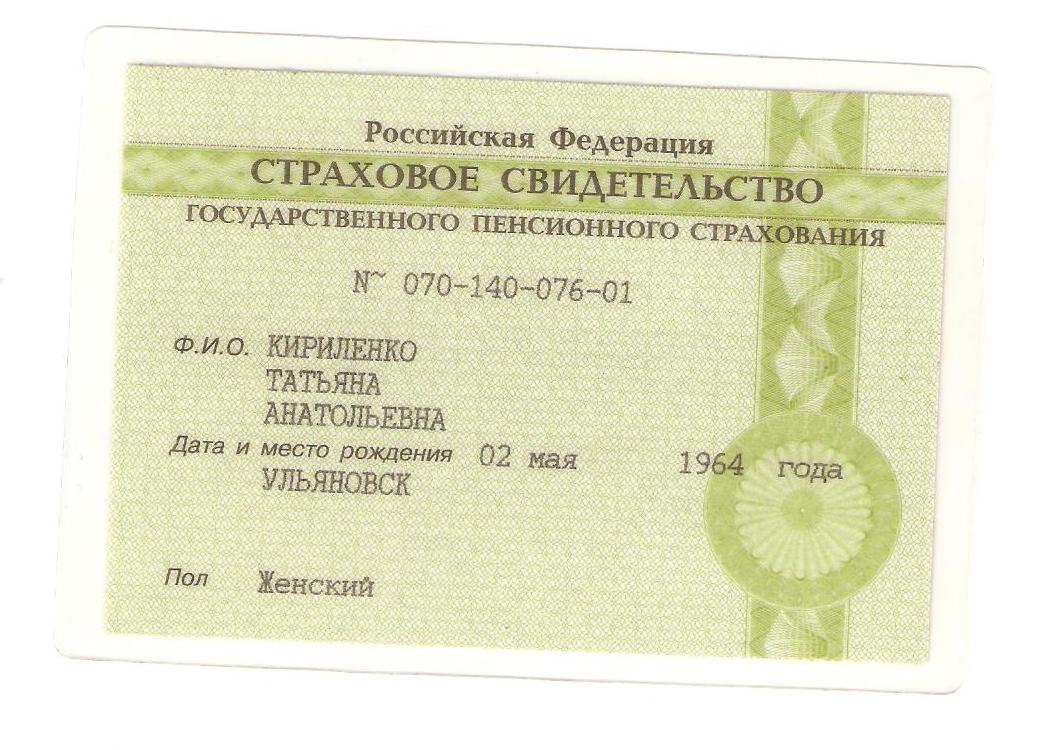text: (477, 437, 850, 486), (399, 262, 641, 307), (255, 397, 448, 436), (255, 462, 413, 504), (263, 328, 420, 366), (250, 562, 378, 603), (255, 360, 382, 398)
